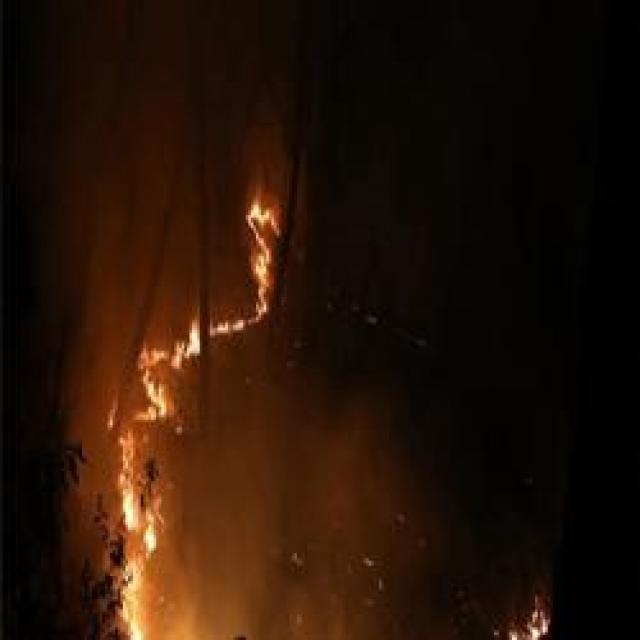fire: (244, 195, 282, 301), (136, 332, 182, 417), (491, 596, 554, 640), (179, 317, 249, 353)
smoke: (170, 443, 284, 635), (302, 408, 389, 548)
